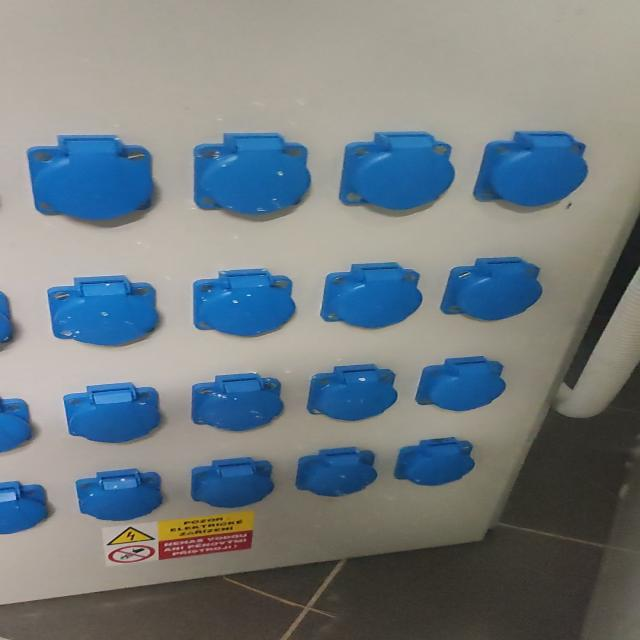house plug covered: (25, 135, 159, 220), (193, 133, 312, 215), (343, 133, 455, 213), (473, 131, 588, 207), (46, 274, 162, 348), (190, 268, 297, 337), (440, 256, 543, 321), (320, 265, 418, 330), (63, 386, 158, 444), (191, 377, 283, 433), (415, 356, 506, 412), (308, 368, 395, 423), (75, 468, 162, 521), (191, 457, 274, 508), (295, 447, 378, 497), (394, 437, 475, 487), (0, 481, 55, 537), (0, 396, 39, 457)
